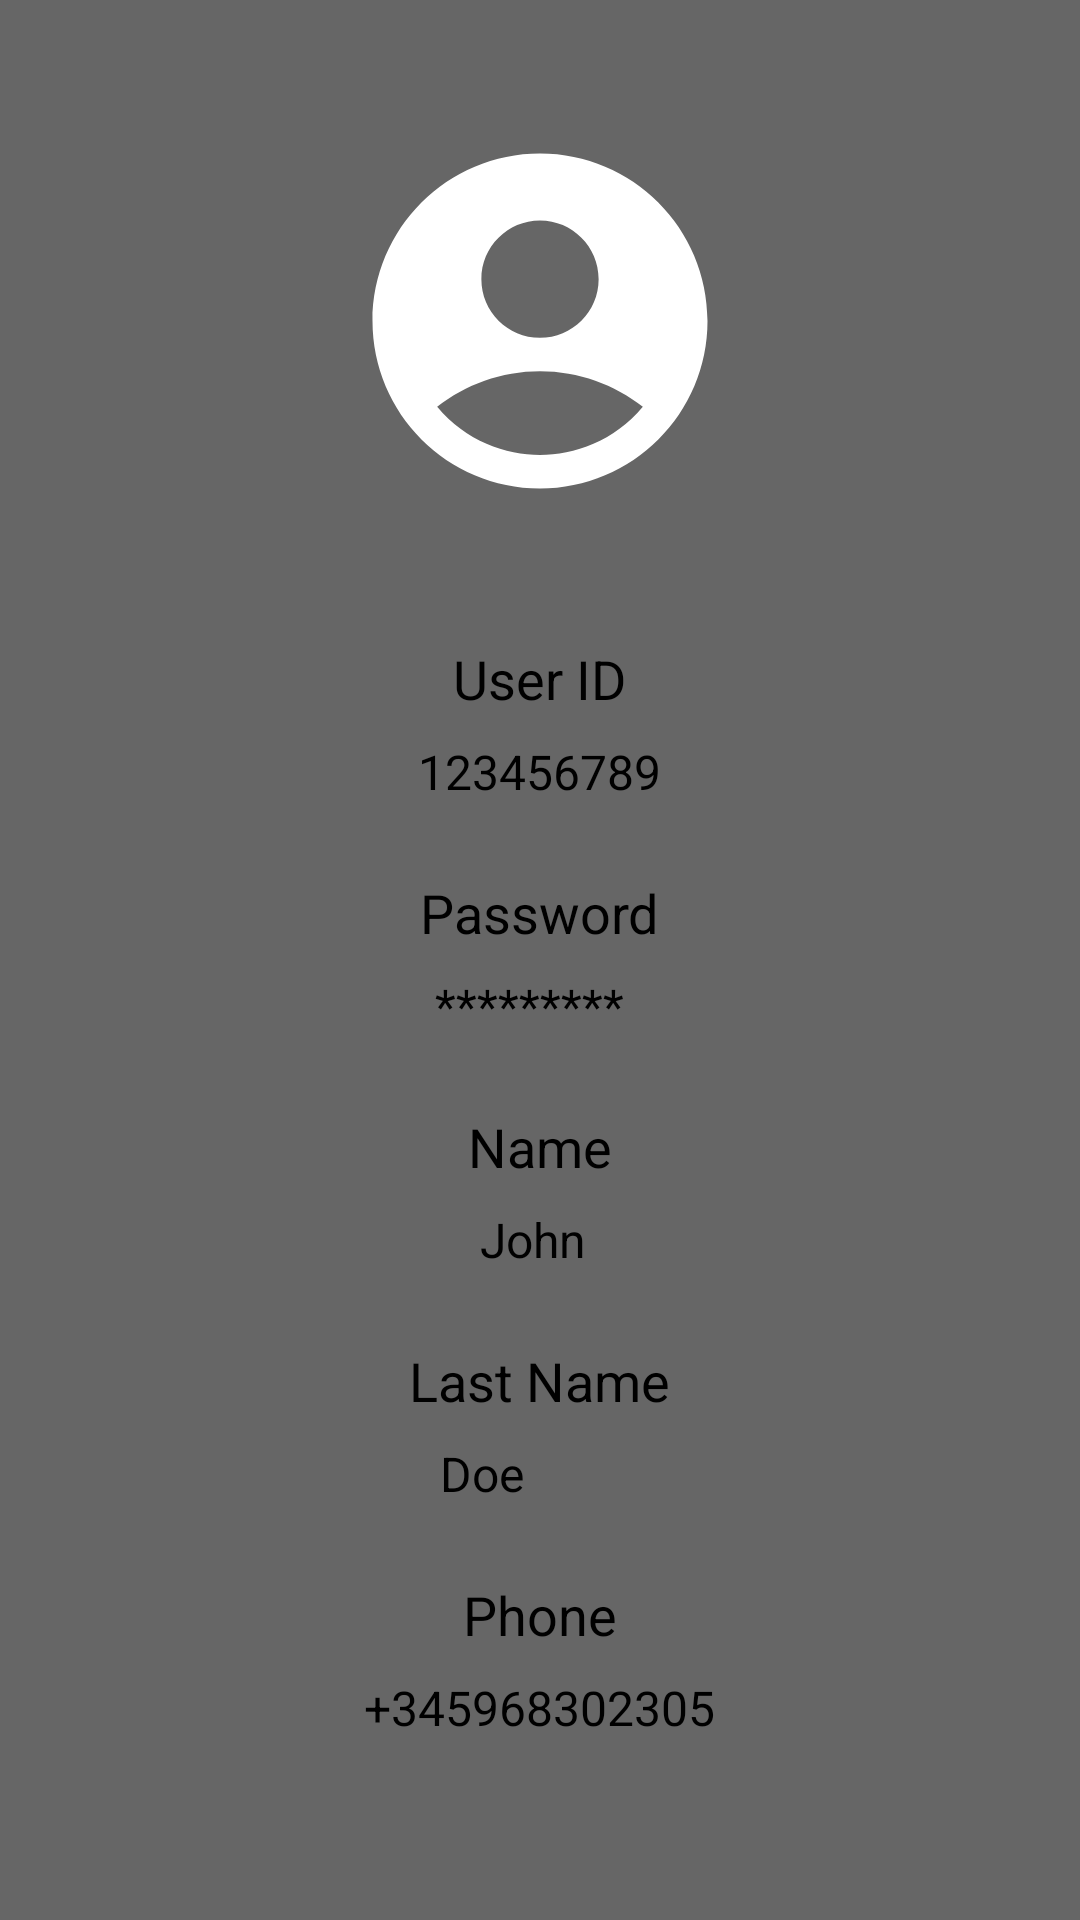

Icons on this 1080 x 1920 Android screen, each with the point to tap as [x,y]:
account circle: [540,321]
